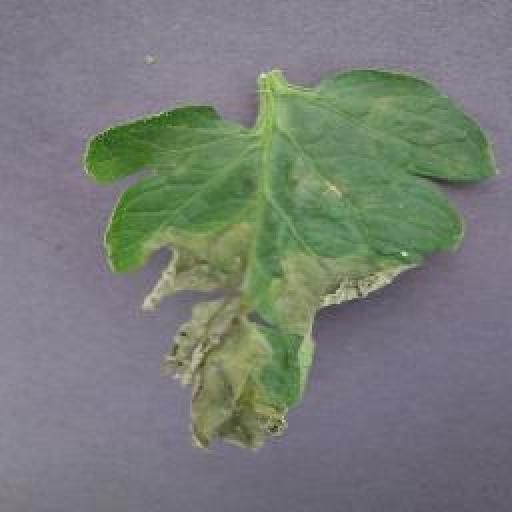disease_tomato: (84, 66, 499, 458)
